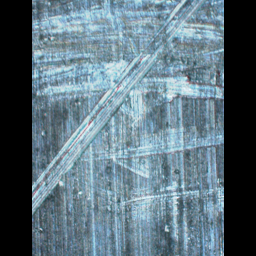d: (31, 0, 223, 101), (91, 123, 222, 232), (31, 113, 103, 221)
